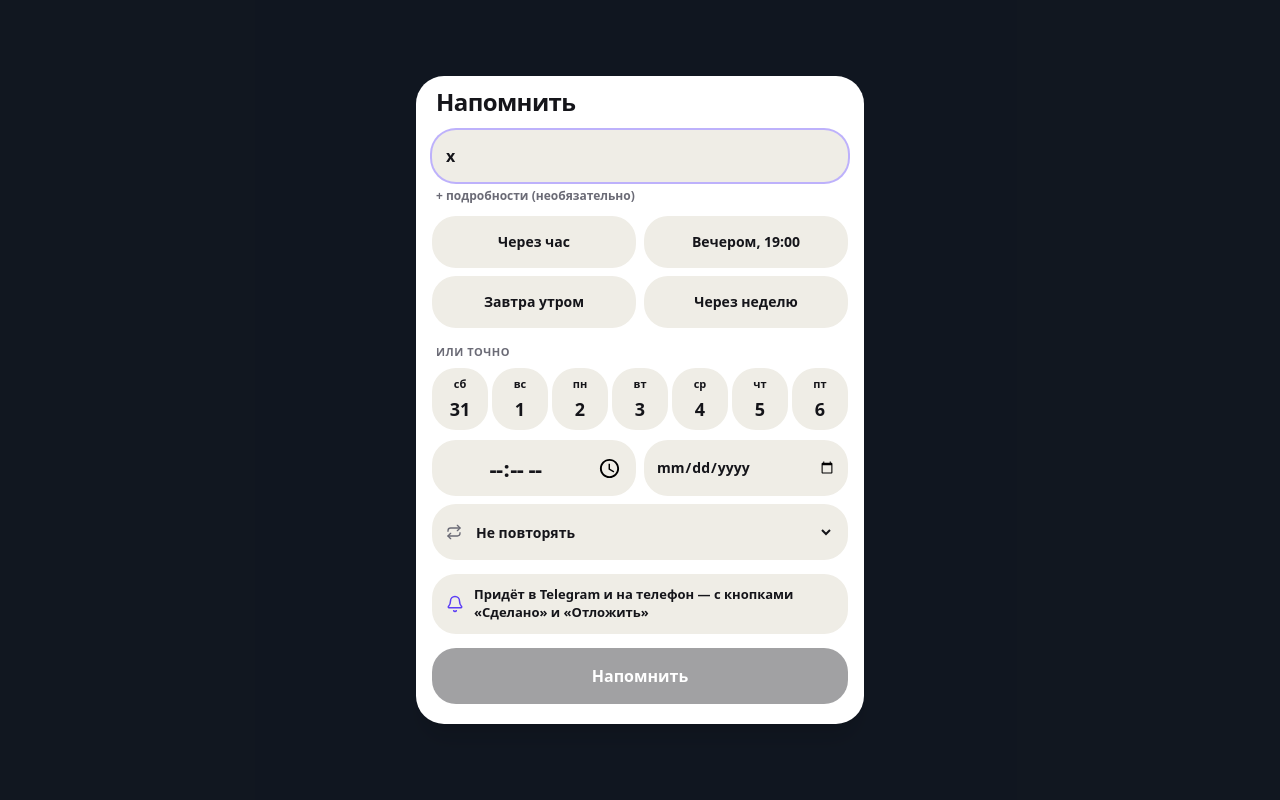
ReminderModal: повтор › предупреждает, что это будет приходить снова
Expected: the text "пока его не удалить" is not shown
Select "каждую неделю" in the dropdown at point(653, 532), box x1=472 y1=504 x2=834 y2=560
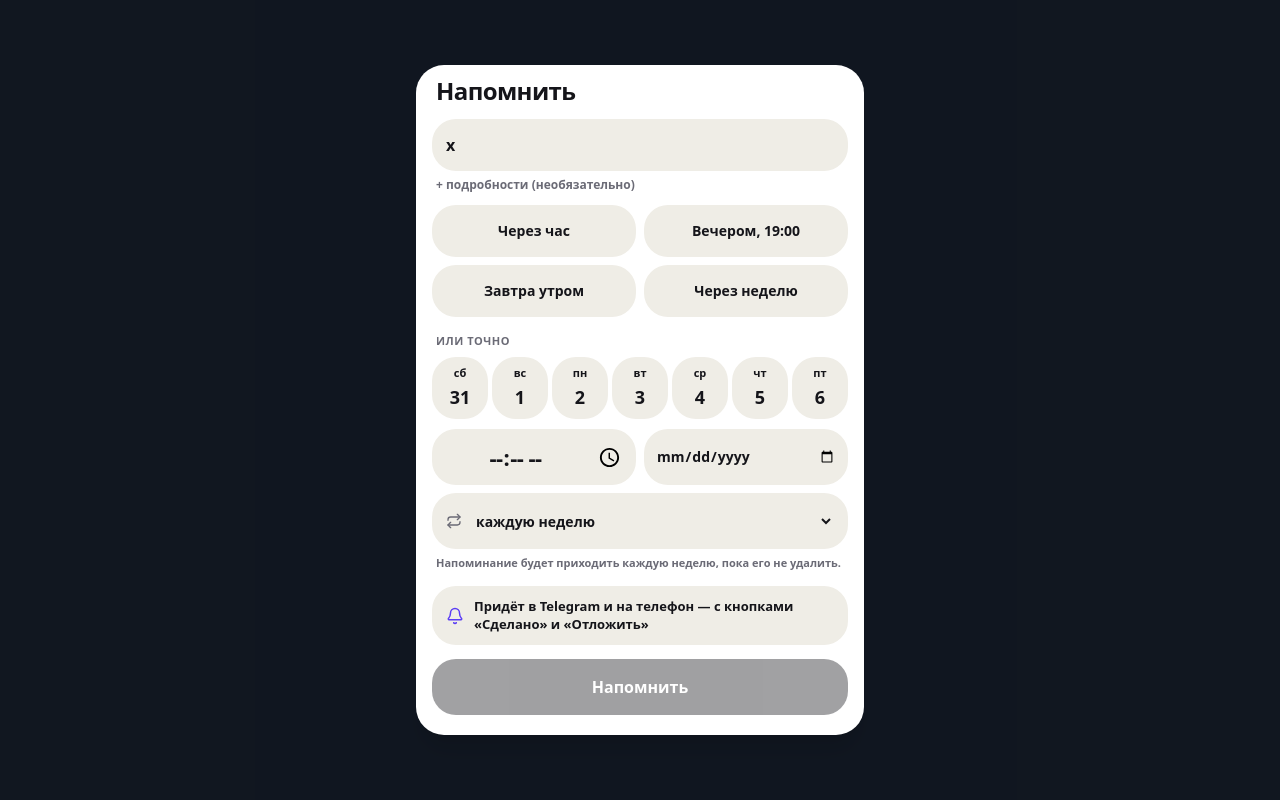
Expected: the text "каждую неделю, пока его не удалить" is shown, x1=432 y1=555 x2=848 y2=572
